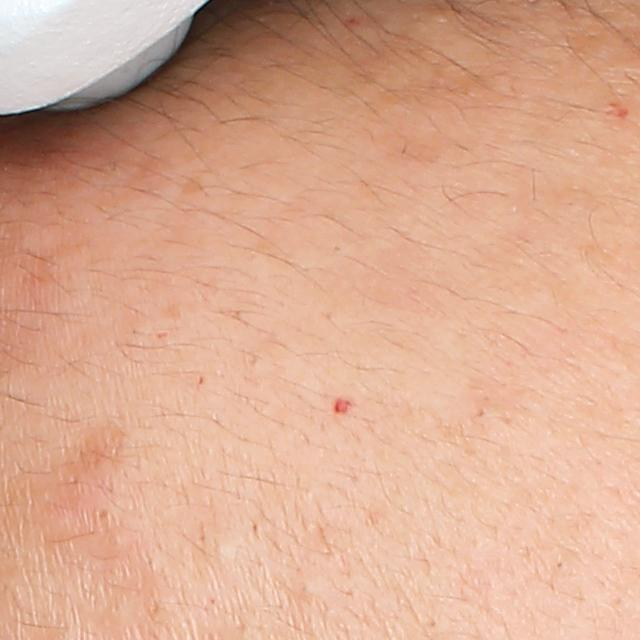comedo: (202, 534, 239, 577), (189, 366, 219, 392), (468, 402, 494, 424), (92, 503, 112, 523)
